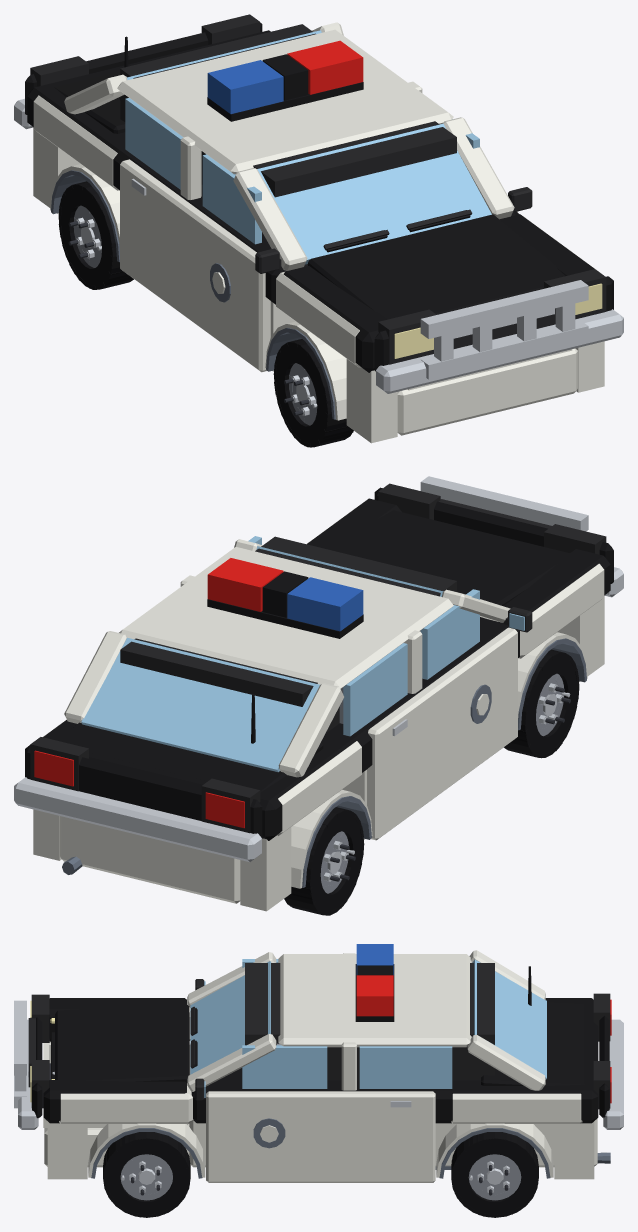
File: PoliceCar.glb
3 views of the same model, one above another, from view 1: azimuth 30°, elevation 25°; view 2: azimuth 150°, elevation 25°; view 3: azimuth 270°, elevation 25° (orthographic). The views are drawn at different scales.
Visible parts, largest first — view 1: Body, Hood, Windscreen, LightBar, WheelFR, WheelRR, LampR; view 2: Body, Hood, LightBar, WheelRR, WheelFR; view 3: Body, Hood, WheelRL, WheelFL, Windscreen, LightBar, RotorFL, RotorRL.
Part boxes in pixels (x1,y1,x2,y2): Body: (14, 14, 623, 443); Hood: (308, 214, 565, 319); Windscreen: (257, 123, 491, 264); LightBar: (207, 40, 363, 121); WheelFR: (273, 339, 353, 447); WheelRR: (58, 181, 133, 289); LampR: (394, 327, 433, 358); Body: (14, 476, 623, 911); Hood: (329, 510, 569, 605); LightBar: (207, 558, 363, 638); WheelRR: (284, 807, 364, 915); WheelFR: (504, 649, 579, 758); Body: (14, 950, 623, 1182); Hood: (55, 1004, 189, 1082); WheelRL: (451, 1132, 538, 1217); WheelFL: (103, 1132, 190, 1217); Windscreen: (190, 961, 271, 1074); LightBar: (355, 944, 394, 1021); RotorFL: (130, 1161, 163, 1195); RotorRL: (478, 1161, 511, 1195).
Size of the model in its own units: 1.98 by 1.7 by 4.73.
